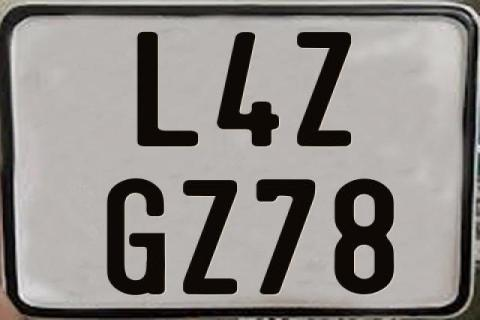0: (332, 177, 398, 295), (217, 30, 279, 148), (256, 178, 315, 294)
G: (105, 179, 165, 295)
L: (135, 31, 201, 148)
Z: (294, 31, 351, 148), (181, 179, 236, 297)
